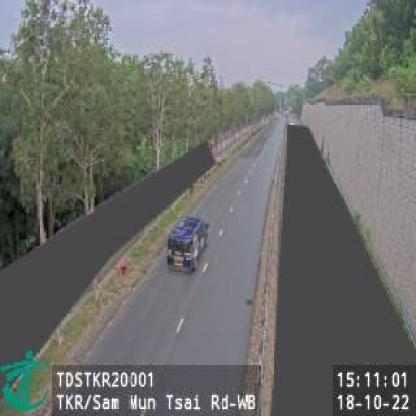Car: (165, 216, 210, 274)
